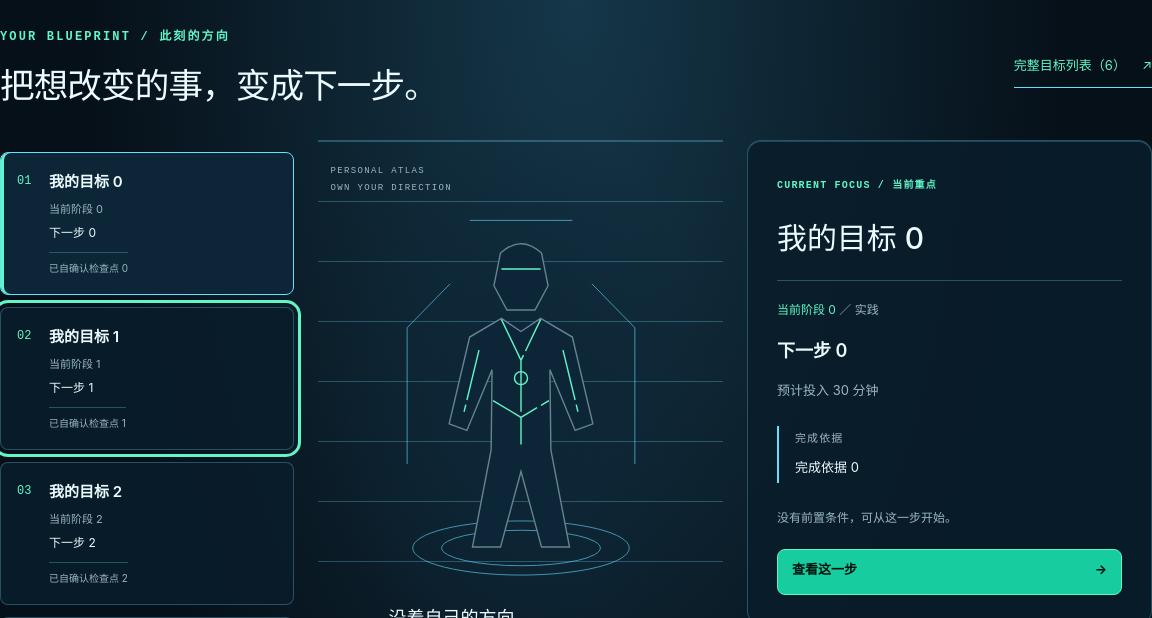
Test: home limits goal modules to five and preserves a user-selected focus across themes without writing a preference
Check: the element named "当前重点" shows "完成依据 0", box [795,459,859,475]
Click the button "02 我的目标 1 当前阶段 1 下一步 1 已自确认检查点 1" at (84, 337), box [0,307,294,450]
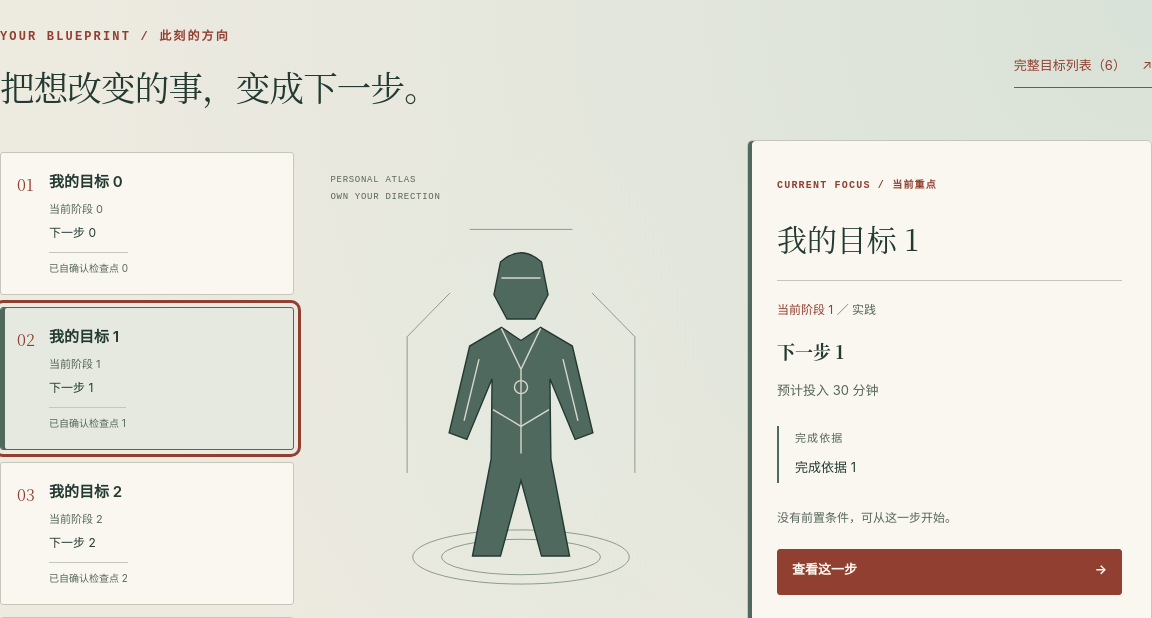
Check: the link to "/paths" shows "完整目标列表", box [1014,44,1151,88]
Check: the element named "当前重点" shows "完成依据 1", box [795,459,856,475]
Check: the element named "当前重点" shows "当前阶段 1", box [777,302,833,317]
